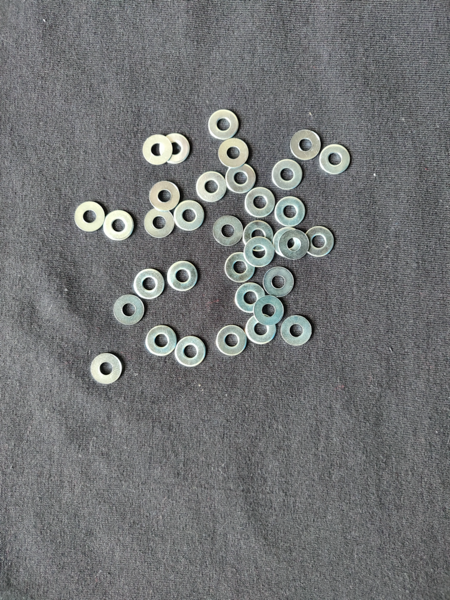circle: (274, 196, 307, 228), (290, 129, 322, 161), (272, 159, 304, 191), (281, 315, 313, 347), (263, 266, 295, 298), (196, 171, 228, 203), (174, 337, 206, 369), (90, 353, 122, 385), (319, 144, 352, 175), (304, 226, 335, 258), (208, 109, 240, 140), (226, 163, 258, 194), (74, 201, 106, 232), (167, 261, 199, 292), (146, 325, 177, 357), (273, 227, 306, 257), (225, 252, 256, 283), (142, 135, 173, 166), (134, 269, 165, 300), (216, 326, 248, 356), (173, 201, 205, 231), (246, 315, 277, 345), (235, 283, 265, 314), (213, 217, 244, 247), (244, 238, 275, 268), (159, 134, 190, 164), (149, 182, 180, 212), (103, 211, 134, 241), (114, 296, 145, 326), (254, 296, 284, 326), (279, 230, 309, 260), (245, 188, 275, 218), (243, 222, 274, 251), (218, 139, 249, 168), (145, 208, 174, 238)
